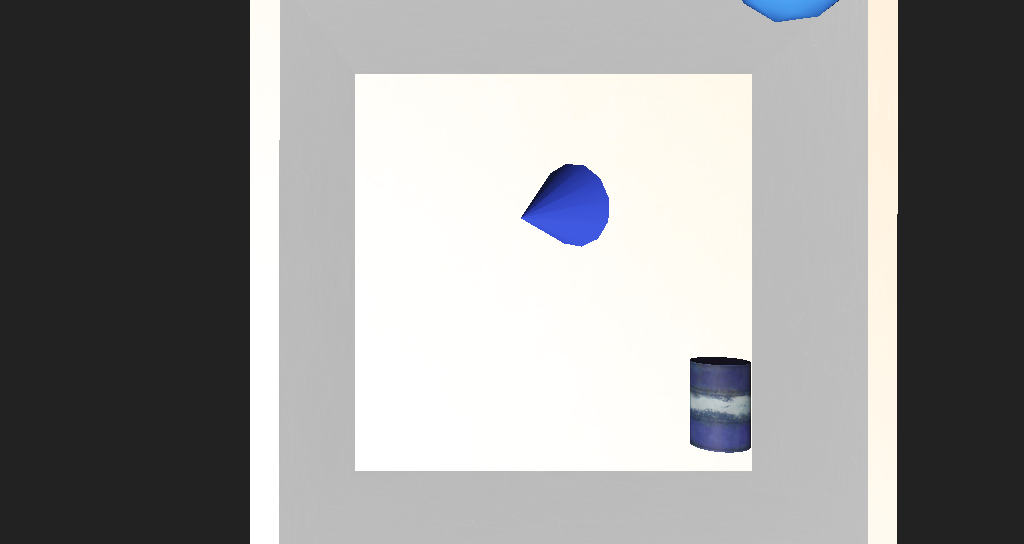cone: (610, 315, 657, 363)
cylinder: (445, 198, 552, 270)
sphere: (610, 88, 697, 150)
